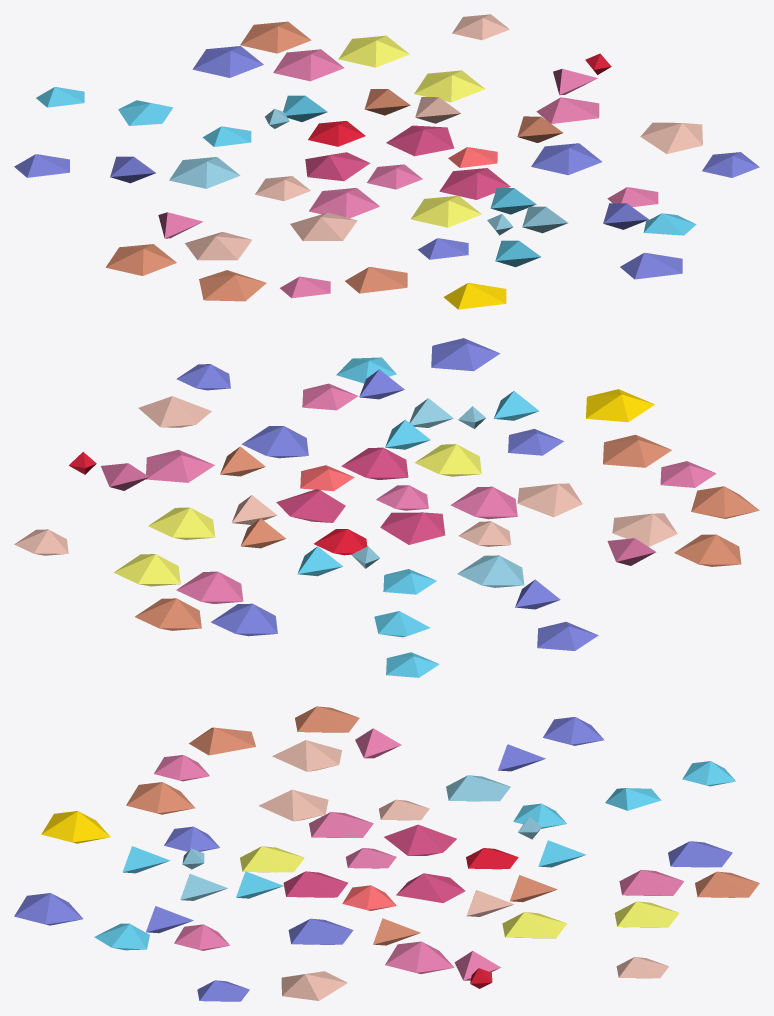
Rendered from ZLP_Flower_A_2.FBX.
The picture shows the model from 3 angles, top to bottom: view 1: azimuth 30°, elevation 25°; view 2: azimuth 150°, elevation 25°; view 3: azimuth 270°, elevation 25°; orthographic projection. The views are drawn at different scales.
Parts seen in each view (by area): view 1: ZLP_Flower_A_2; view 2: ZLP_Flower_A_2; view 3: ZLP_Flower_A_2.
Boxes of the visible parts, x1,y1,x2,y2 form: ZLP_Flower_A_2: (14,14,759,309); ZLP_Flower_A_2: (14,338,759,677); ZLP_Flower_A_2: (14,706,759,1001).
Size of the model in its own units: 170 by 9.25 by 181.
